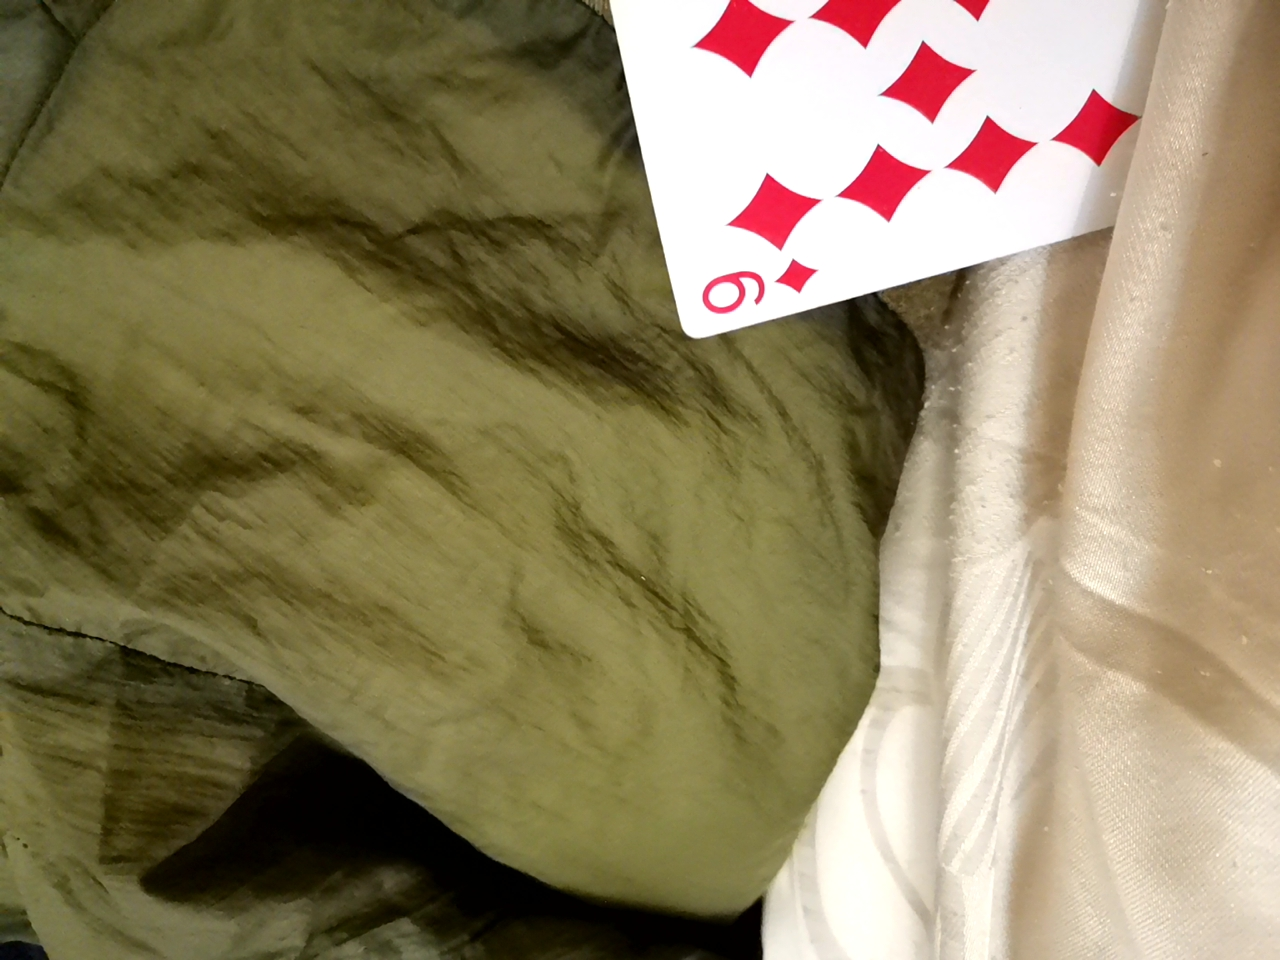fk 9: (555, 0, 1187, 336)
